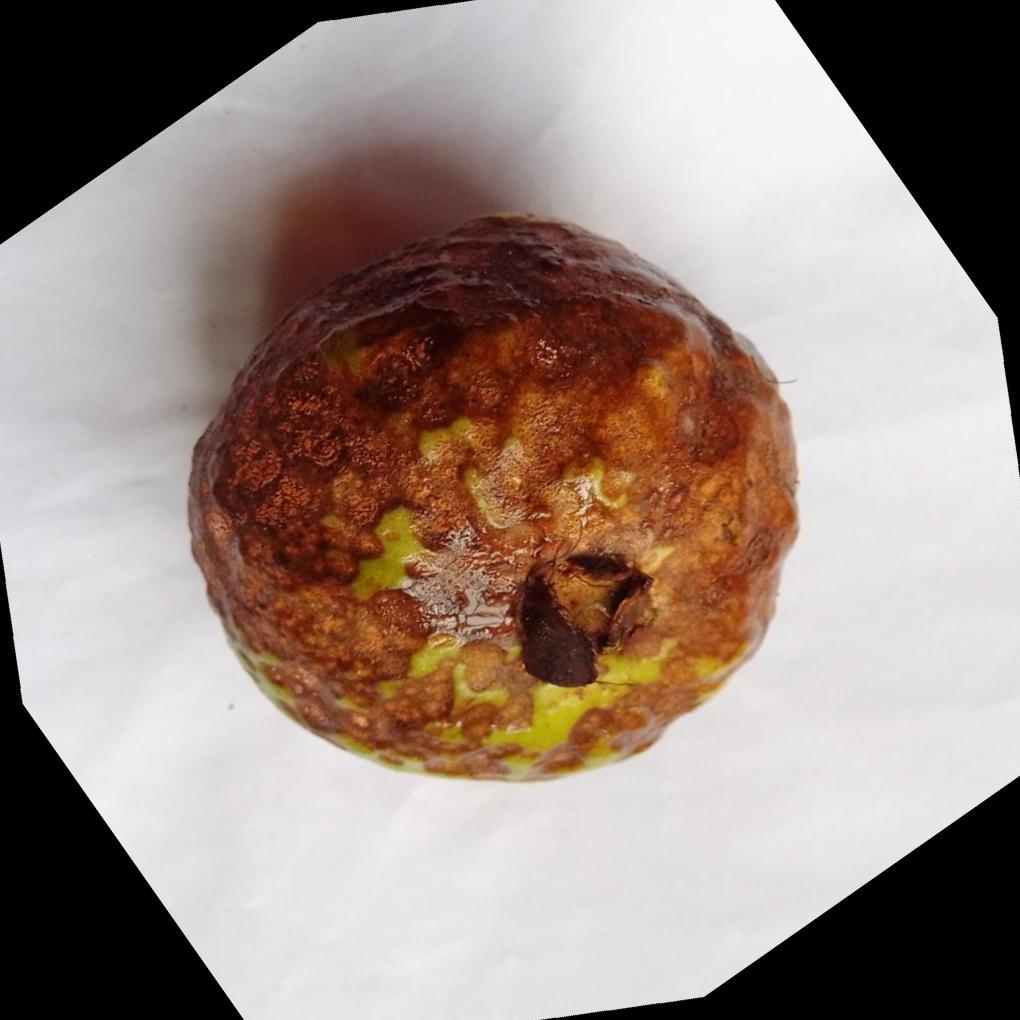FreshOrange: (185, 213, 803, 787)
